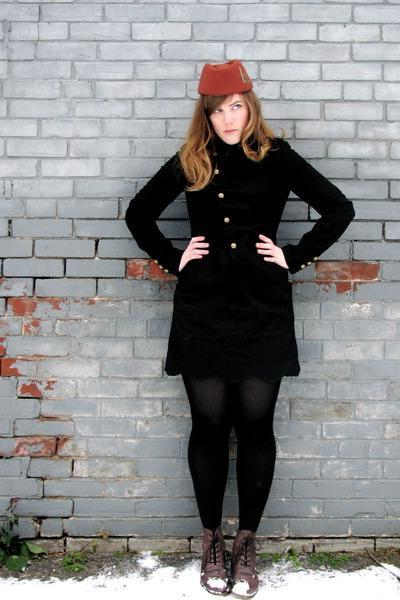dress: (123, 130, 358, 378)
